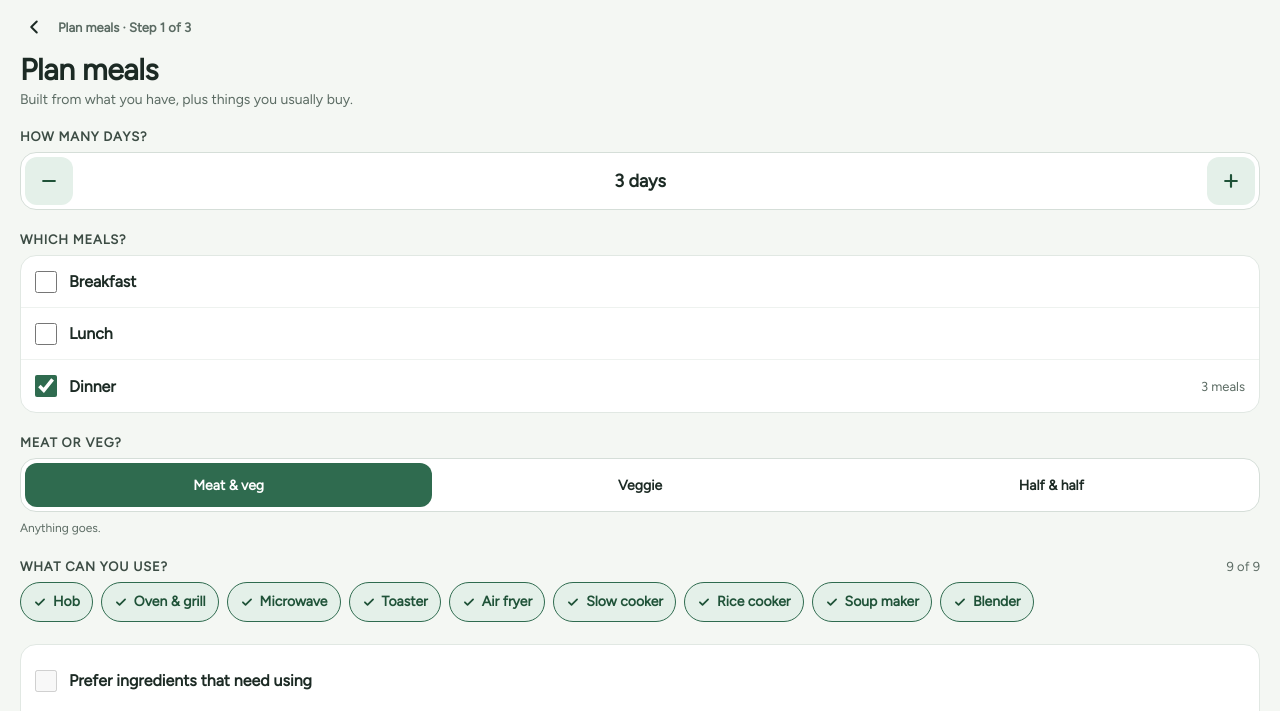
Test case: Plan meals: choose › at least one meal must be ticked
The width and height of the screenshot is (1280, 711).
Click the checkbox labelled "Dinner 3 meals" at x=46, y=386, box [35,375,57,397]
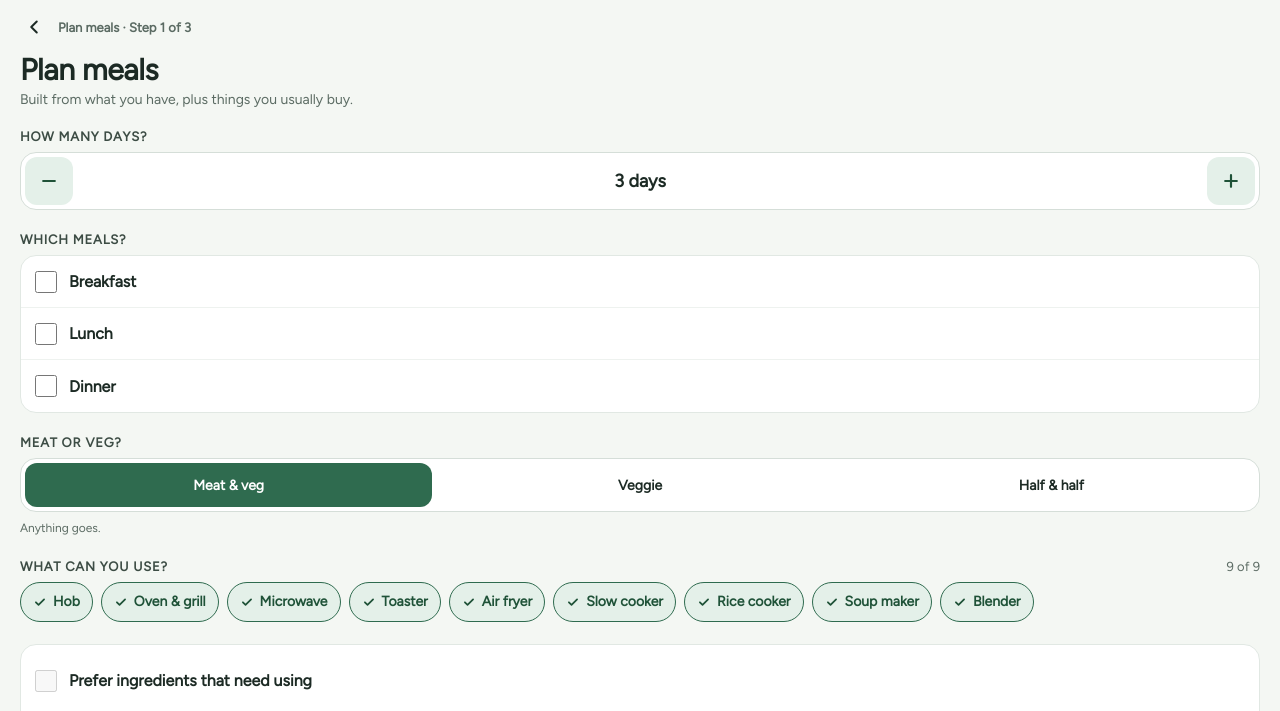
Click the checkbox labelled "Breakfast" at x=46, y=282, box [35,271,57,293]
(page scrolled)
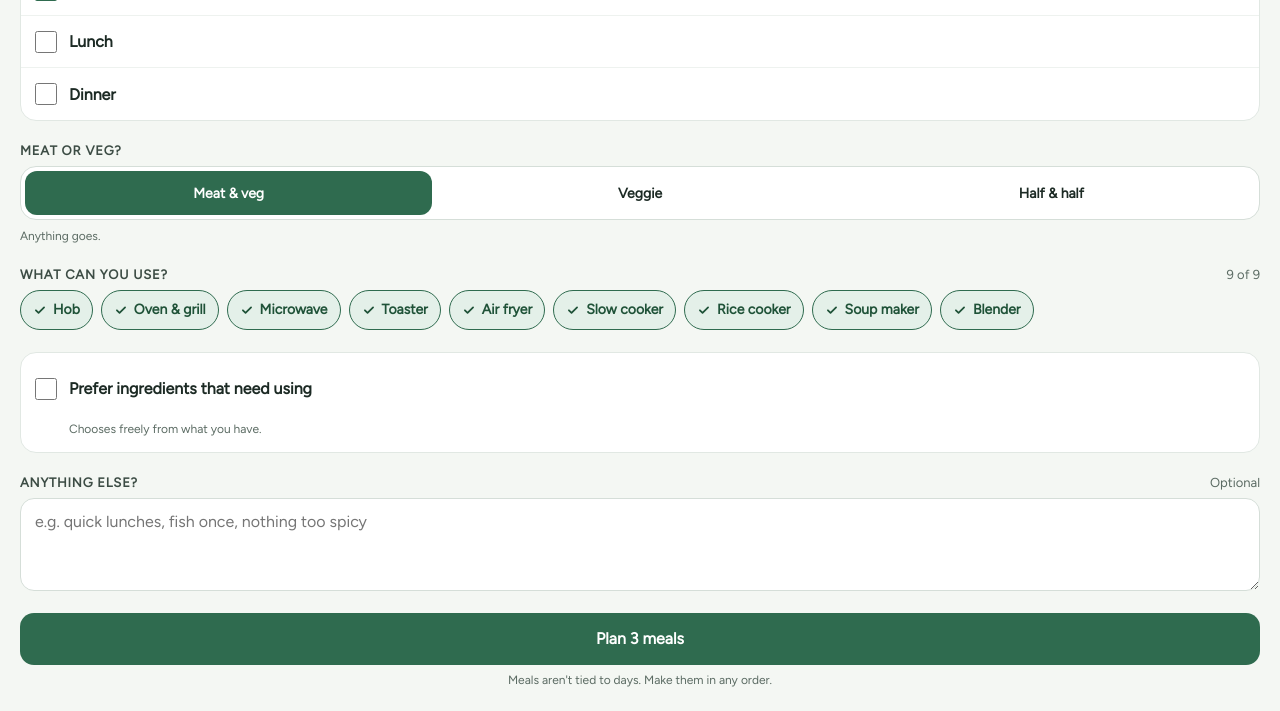
Now the button "Plan 3 meals" is enabled, box [20,613,1260,665]
